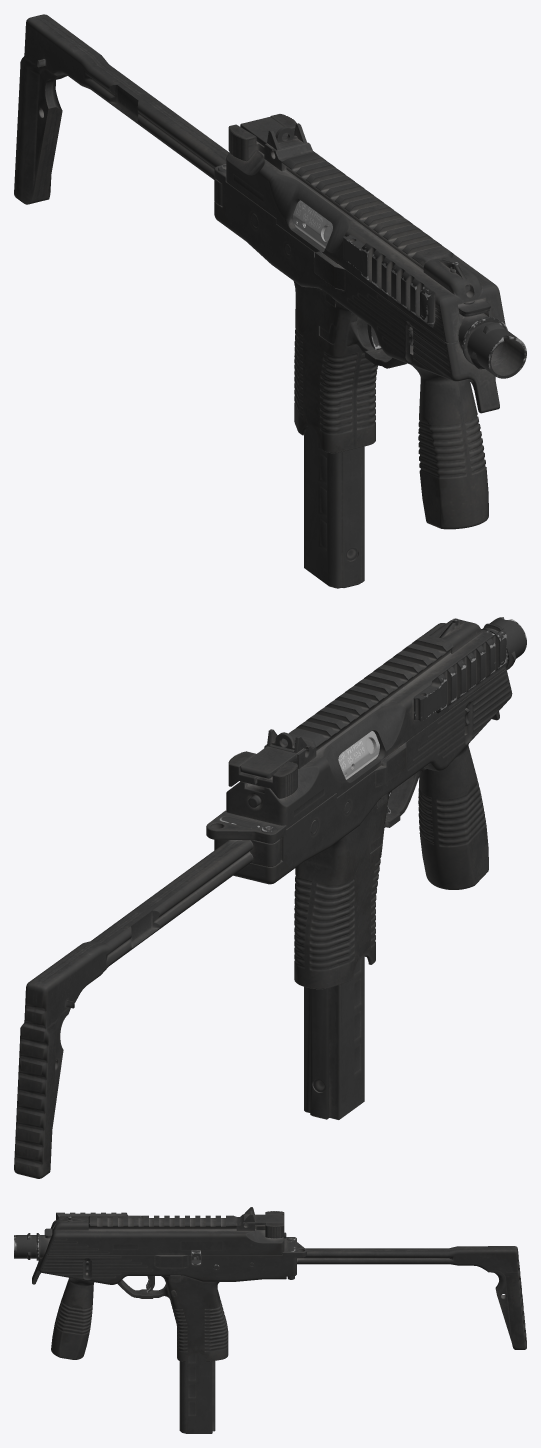
3 renders of one model, top to bottom at view 1: azimuth 30°, elevation 25°; view 2: azimuth 150°, elevation 25°; view 3: azimuth 270°, elevation 25°, orthographic. The views are drawn at different scales.
Parts seen in each view (by area): view 1: MP9_CS2; view 2: MP9_CS2; view 3: MP9_CS2.
Part boxes in pixels (x1,y1,x2,y2): MP9_CS2: (14,14,526,588); MP9_CS2: (14,617,526,1178); MP9_CS2: (14,1207,526,1433).
Bounding box in the file's own units: 0.0512 × 0.2649 × 0.5631.
Materials: 1 (1 with a texture image).
